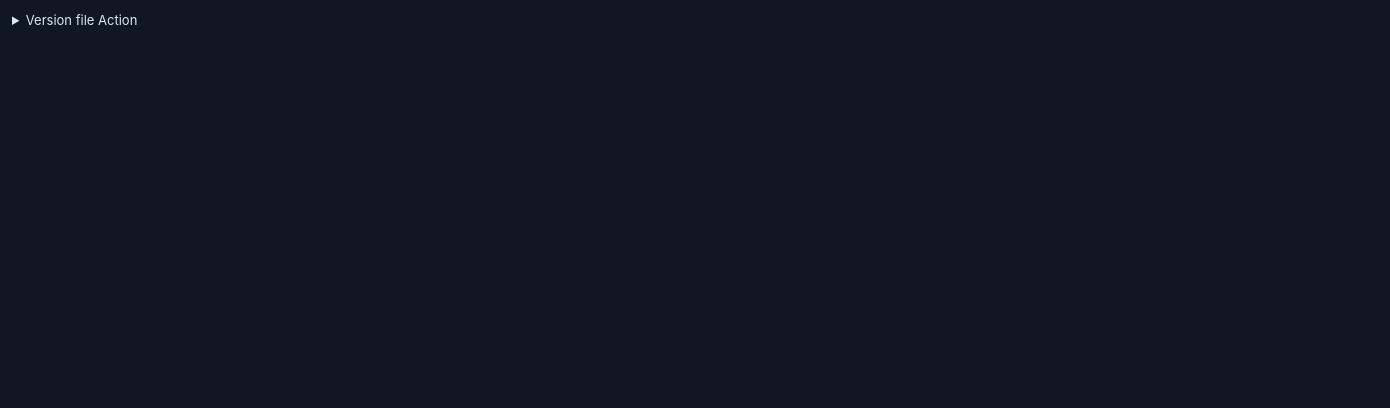
Test: does nothing until explicitly requested and needs no AI setup
Click the heading "Version file Action": {"x": 82, "y": 20} [26,12,137,28]
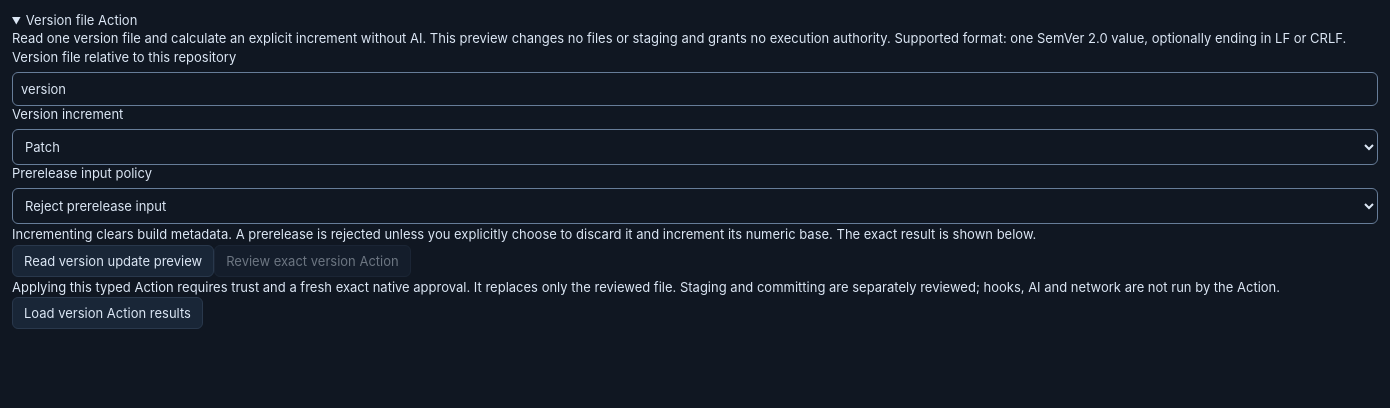
Click the button "Read version update preview": {"x": 113, "y": 261} [12,245,214,277]
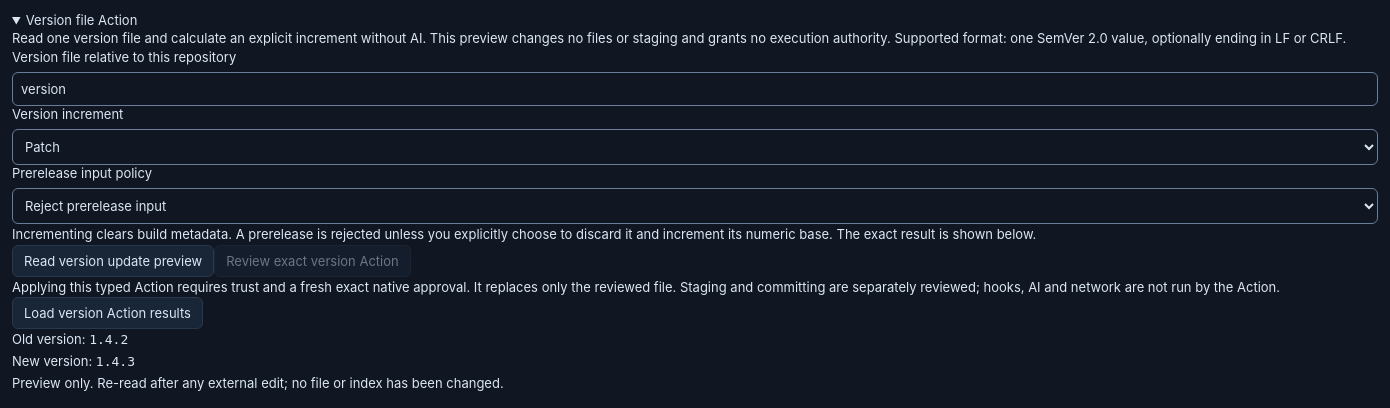
Now the element named "Version update preview" is shown, box [12,331,504,391]
Now the text "1.4.3" is shown, box [96,354,135,369]
